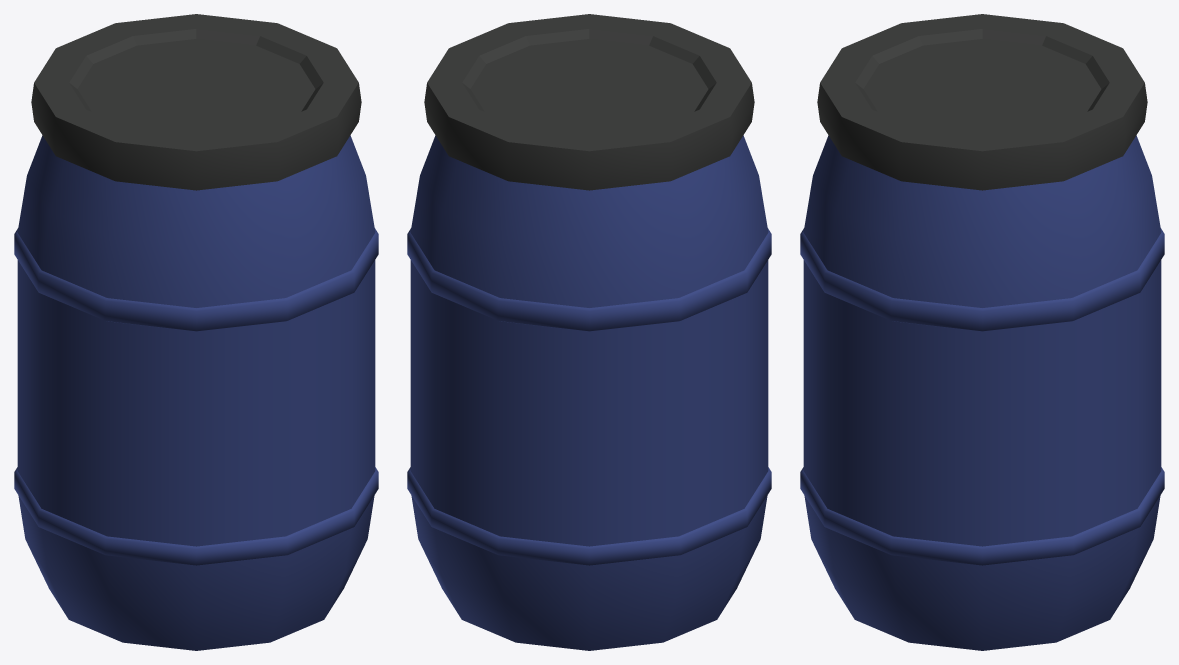
File: BlueWaterBarrel.glb
3 renders of one model, left to right at view 1: azimuth 30°, elevation 25°; view 2: azimuth 150°, elevation 25°; view 3: azimuth 270°, elevation 25°, orthographic.
Visible parts, largest first — view 1: blueWaterBarrel; view 2: blueWaterBarrel; view 3: blueWaterBarrel.
Boxes of the visible parts, box(x1,y1,x2,y2) form: blueWaterBarrel: box(14, 14, 378, 650); blueWaterBarrel: box(407, 14, 771, 650); blueWaterBarrel: box(800, 14, 1164, 650).
Size of what is drawn, in the model's own units: 0.7613 by 1.17 by 0.7613.
Materials: 1 (1 with a texture image).
